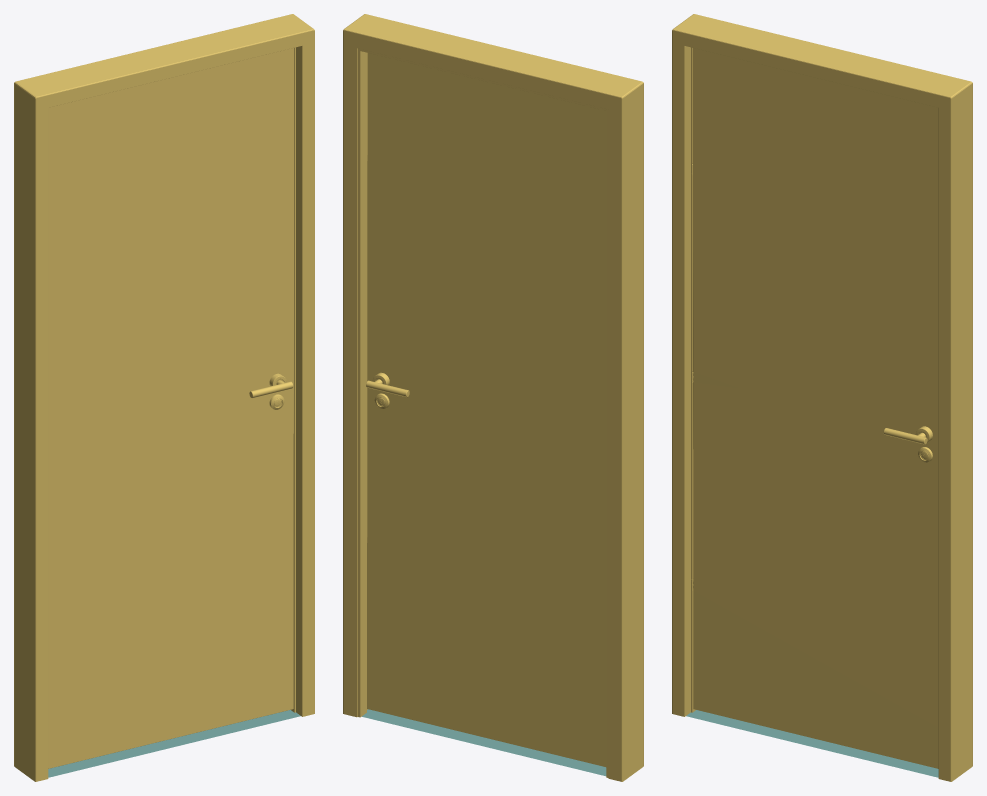
Rendered from Door_geo.fbx.
3 renders of one model, left to right at view 1: azimuth 30°, elevation 25°; view 2: azimuth 150°, elevation 25°; view 3: azimuth 330°, elevation 25°, orthographic.
Visible parts, largest first — view 1: Door_inner, Doorframe, Door_floor_cover1; view 2: Door_inner, Doorframe, Door_floor_cover1; view 3: Door_inner, Doorframe, Door_floor_cover1.
Boxes of the visible parts, x1=… form: Door_inner: x1=48, y1=48, x2=293, y2=768; Doorframe: x1=14, y1=14, x2=314, y2=781; Door_floor_cover1: x1=48, y1=710, x2=300, y2=777; Door_inner: x1=367, y1=53, x2=606, y2=766; Doorframe: x1=343, y1=14, x2=643, y2=781; Door_floor_cover1: x1=362, y1=709, x2=606, y2=776; Door_inner: x1=693, y1=48, x2=938, y2=768; Doorframe: x1=672, y1=14, x2=972, y2=781; Door_floor_cover1: x1=686, y1=710, x2=938, y2=777.
Bounding box in the file's own units: 0.8942 × 2.09 × 0.1443.
